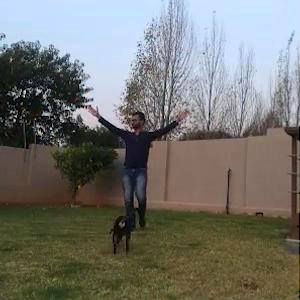takeoff: (83, 92, 202, 229)
